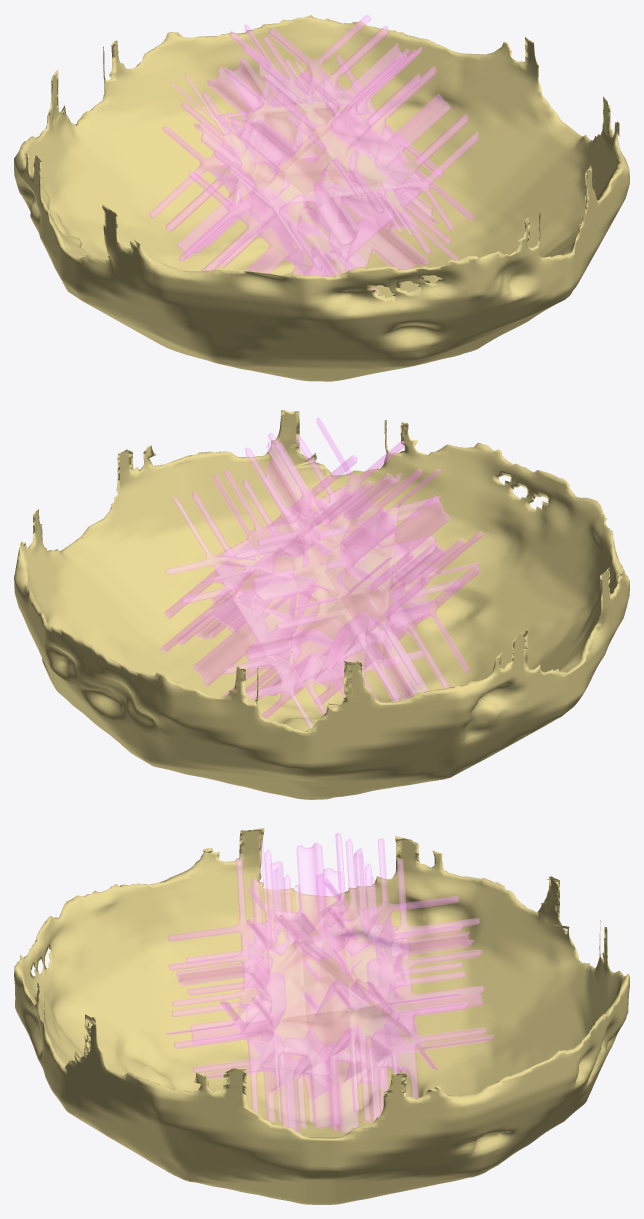
File: cristal-1.glb
3 views of the same model, one above another, from view 1: azimuth 30°, elevation 25°; view 2: azimuth 150°, elevation 25°; view 3: azimuth 270°, elevation 25° (orthographic).
Visible parts, largest first — view 1: Icosphere, Cube; view 2: Icosphere, Cube; view 3: Icosphere, Cube.
Boxes of the visible parts, x1=… form: Icosphere: x1=14, y1=15, x2=629, y2=381; Cube: x1=149, y1=14, x2=478, y2=295; Icosphere: x1=14, y1=410, x2=629, y2=799; Cube: x1=160, y1=417, x2=484, y2=728; Icosphere: x1=14, y1=828, x2=629, y2=1204; Cube: x1=167, y1=833, x2=493, y2=1133.
Bounding box in the file's own units: 11.37 × 6.68 × 12.14.
